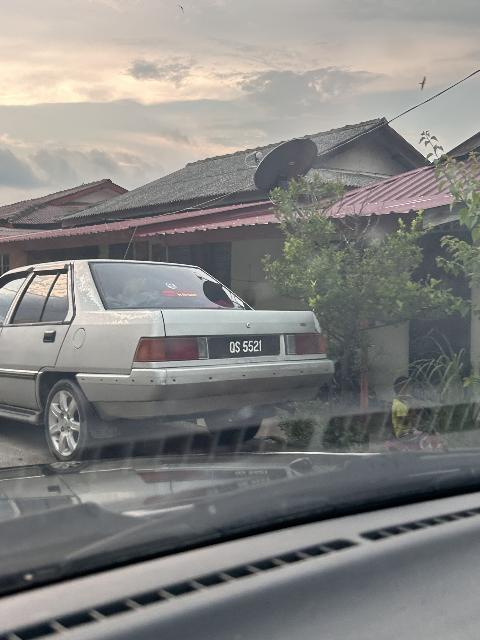License_Plate: (206, 336, 282, 361)
QS5521: (206, 336, 282, 361)
car: (2, 263, 351, 459)
